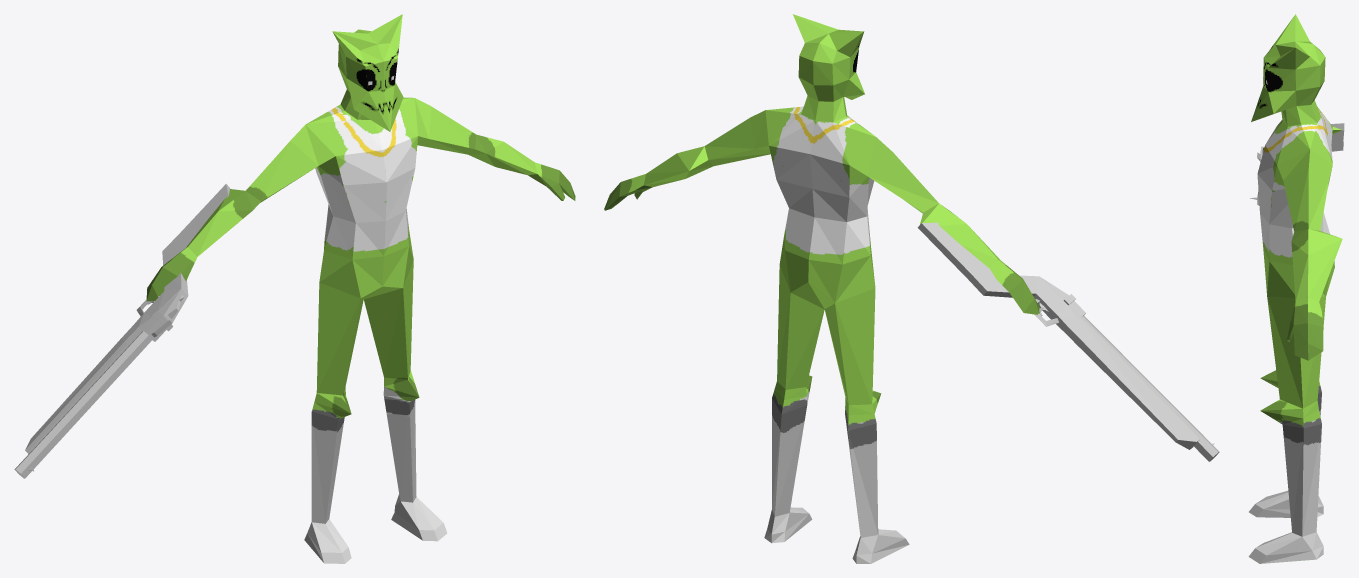
Rendered from teacher.obj.
3 renders of one model, left to right at view 1: azimuth 30°, elevation 25°; view 2: azimuth 150°, elevation 25°; view 3: azimuth 270°, elevation 25°, orthographic. The views are drawn at different scales.
Visible parts, largest first — view 1: HumanoidBase_NotOverlapping, Box001; view 2: HumanoidBase_NotOverlapping, Box001; view 3: HumanoidBase_NotOverlapping, Box001.
Part boxes in pixels (x1,y1,x2,y2): HumanoidBase_NotOverlapping: (146, 14, 575, 563); Box001: (14, 184, 230, 478); HumanoidBase_NotOverlapping: (604, 14, 1039, 563); Box001: (917, 222, 1219, 461); HumanoidBase_NotOverlapping: (1248, 14, 1342, 563); Box001: (1250, 123, 1344, 205).
Bounding box in the file's own units: 2.19 × 1.84 × 0.3179.
